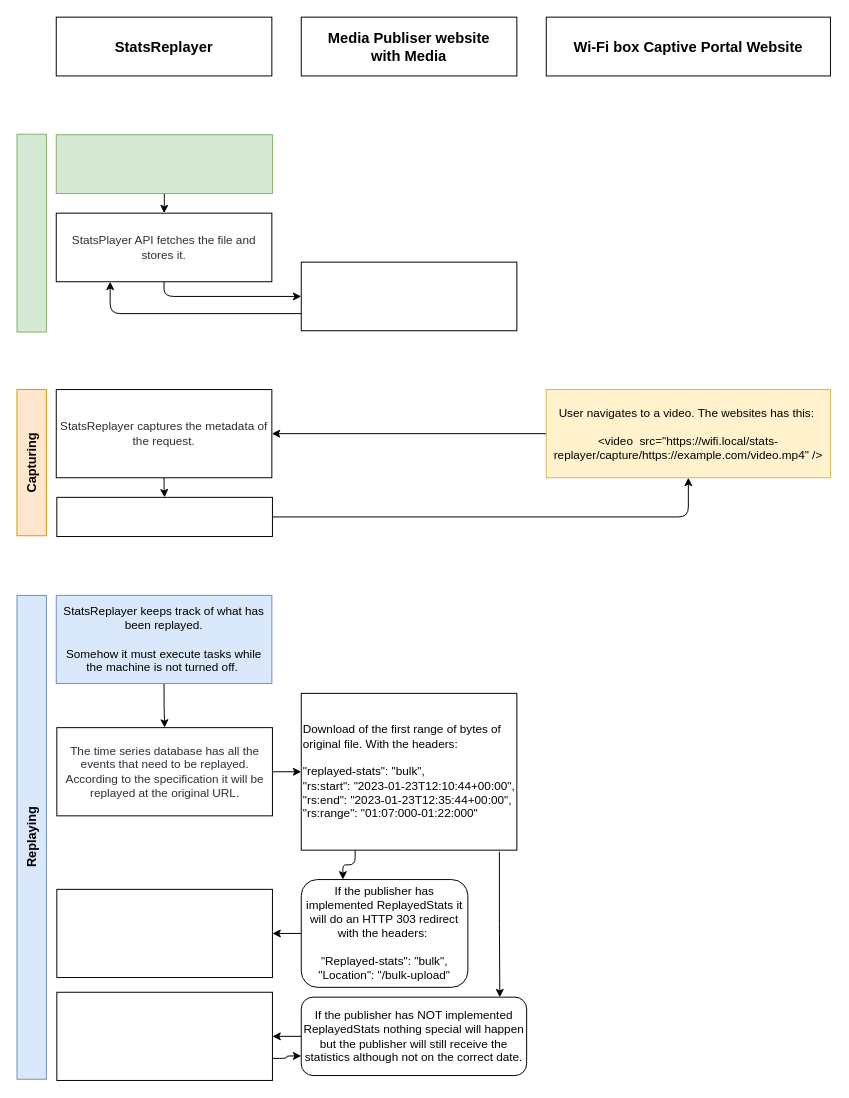
Image size: 849x1098. Some labels were removed from this diagram. Here are the shapes that lost their labels. From the top down, the box of each, then its label:
(55, 134, 272, 194): Administrator gives command in UI to download media files.
(16, 133, 46, 332): Prepare
(300, 261, 517, 331): Download of original file
(56, 496, 272, 537): Redirects to the local file
(56, 888, 272, 978): Switch to bulk upload of statistics. POST everything at once to given URL.
(56, 991, 272, 1080): Execute a replay of each file.
